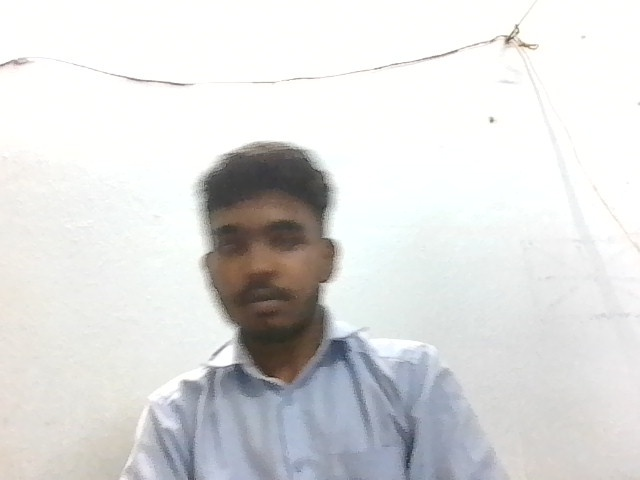real: (192, 133, 350, 357)
